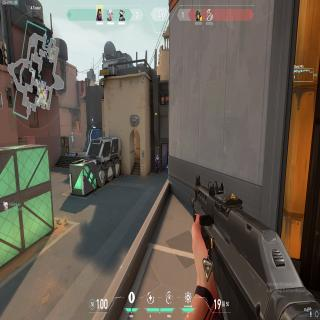ENEMY-BODY: (156, 154, 160, 174)
ENEMY-HEAD: (156, 154, 159, 160)
